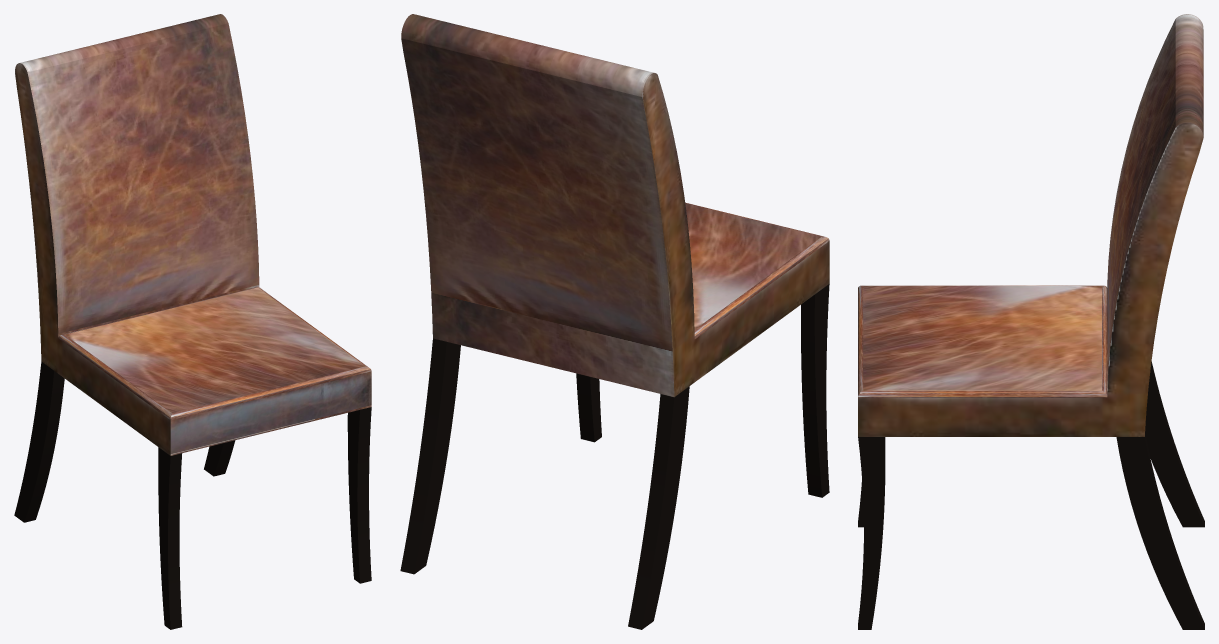
Rendered from chaise+vintage.fbx.
3 views of the same model, side by side, from view 1: azimuth 30°, elevation 25°; view 2: azimuth 150°, elevation 25°; view 3: azimuth 270°, elevation 25° (orthographic). The views are drawn at different scales.
Parts seen in each view (by area): view 1: Group1, Group2, Group5, Group3, Group4; view 2: Group1, Group2, Group4, Group5, Group3; view 3: Group1, Group4, Group3, Group2.
Boxes of the visible parts, box(x1,y1,x2,y2) form: Group1: box(15, 14, 371, 455); Group2: box(14, 361, 64, 522); Group5: box(158, 447, 182, 629); Group3: box(347, 407, 371, 583); Group4: box(204, 440, 235, 476); Group1: box(401, 14, 829, 397); Group2: box(628, 386, 689, 629); Group4: box(400, 338, 460, 574); Group5: box(801, 284, 829, 497); Group3: box(576, 373, 601, 442); Group1: box(858, 14, 1203, 436); Group4: box(1116, 433, 1204, 629); Group3: box(858, 437, 885, 629); Group2: box(1145, 361, 1204, 527).
Bounding box in the file's own units: 49 × 106 × 66.
